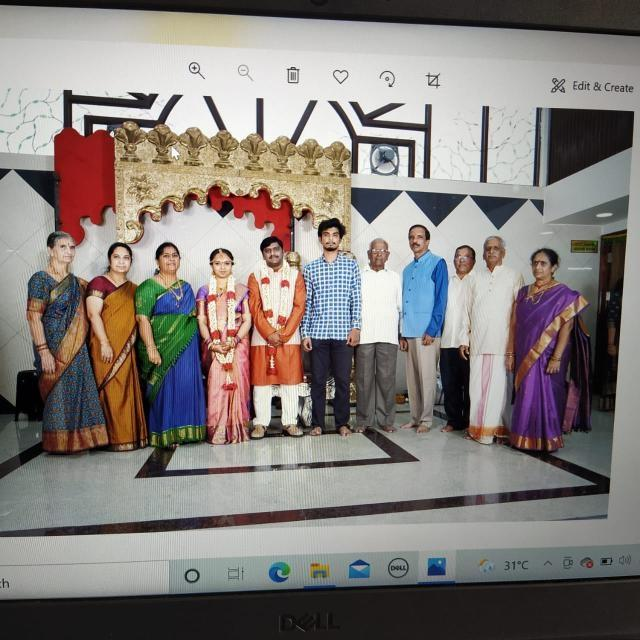person: (188, 236, 266, 448), (19, 215, 93, 431), (518, 235, 588, 458), (308, 200, 368, 448), (242, 224, 308, 446), (142, 221, 205, 445), (92, 232, 148, 446), (473, 227, 525, 436), (406, 216, 452, 417), (360, 230, 402, 420), (449, 225, 473, 382)
